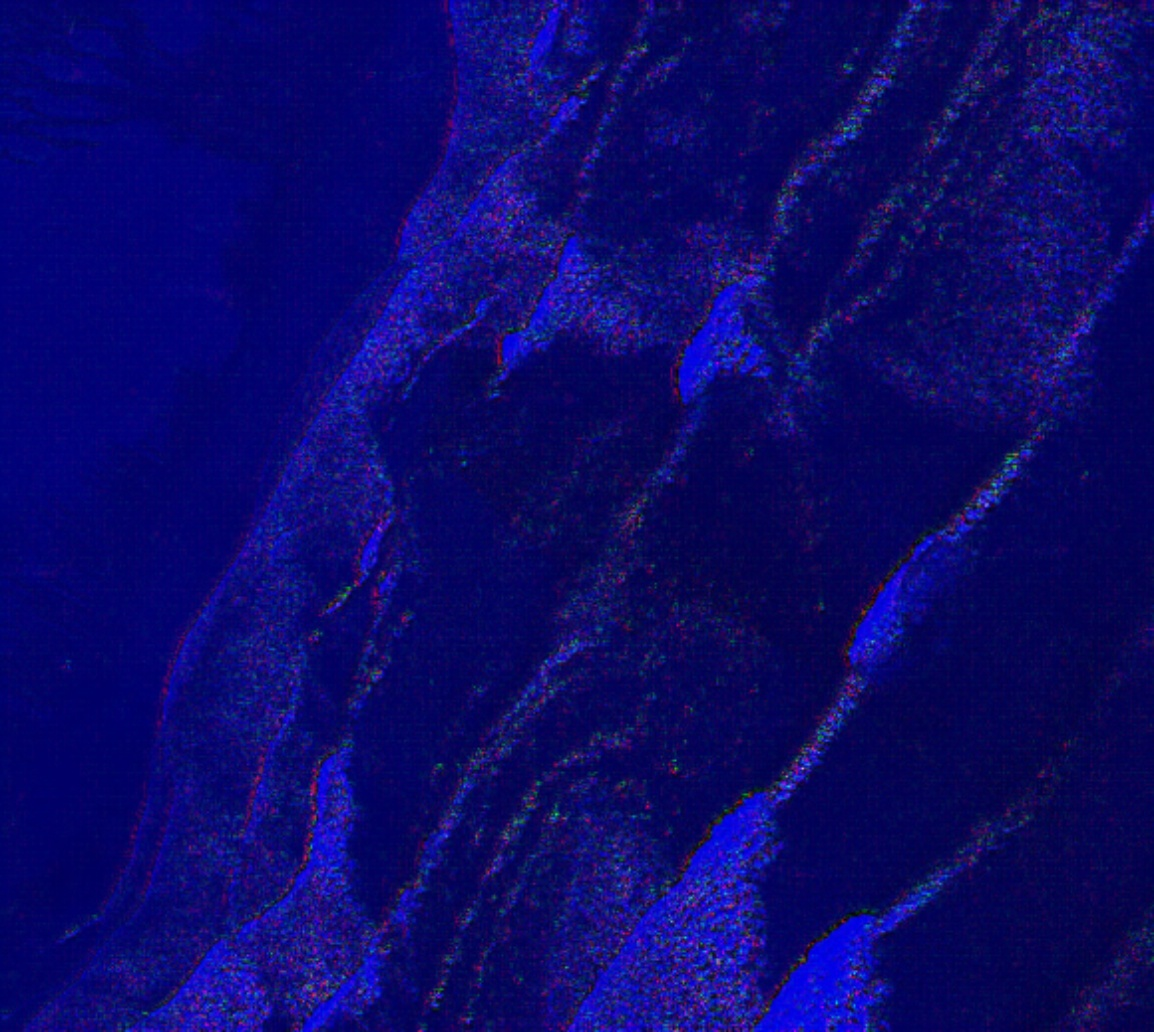rip_current: (346, 277, 903, 679)
